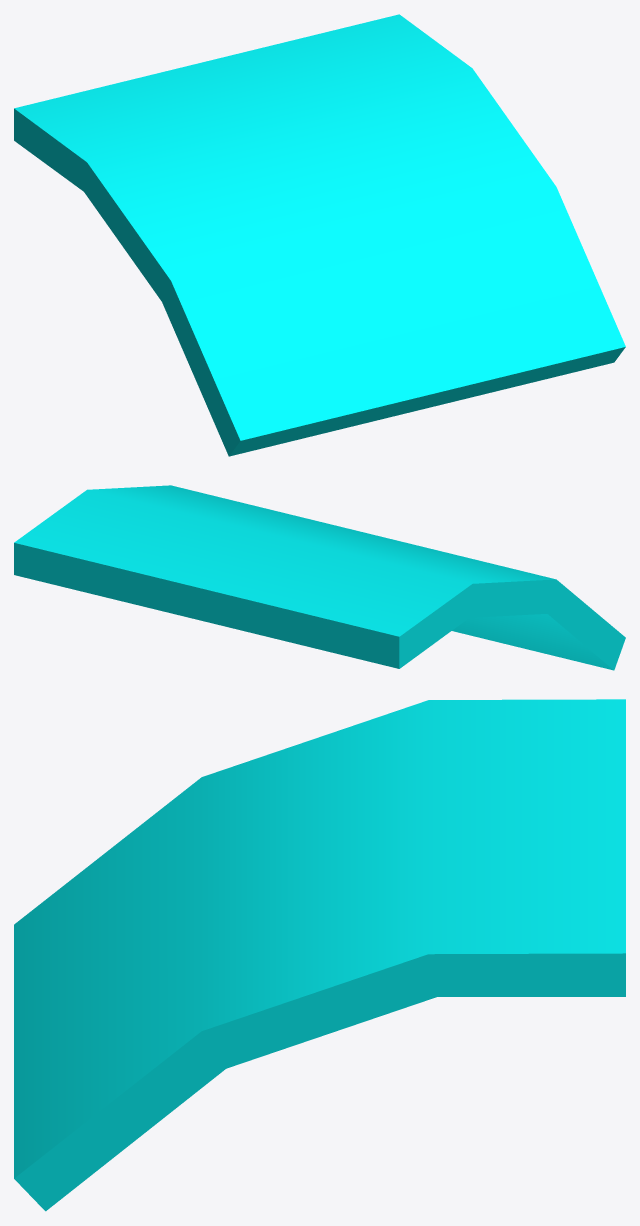
The model's file is MOD_PlafondA2.FBX.
3 views of the same model, one above another, from view 1: azimuth 30°, elevation 25°; view 2: azimuth 150°, elevation 25°; view 3: azimuth 270°, elevation 25° (orthographic). The views are drawn at different scales.
Parts seen in each view (by area): view 1: mod_plafondB; view 2: mod_plafondB; view 3: mod_plafondB.
Part boxes in pixels (x1,y1,x2,y2): mod_plafondB: (14,14,625,456); mod_plafondB: (14,485,625,670); mod_plafondB: (14,699,625,1211).
Size of the model in its own units: 0.9529 by 0.4513 by 0.9699.
